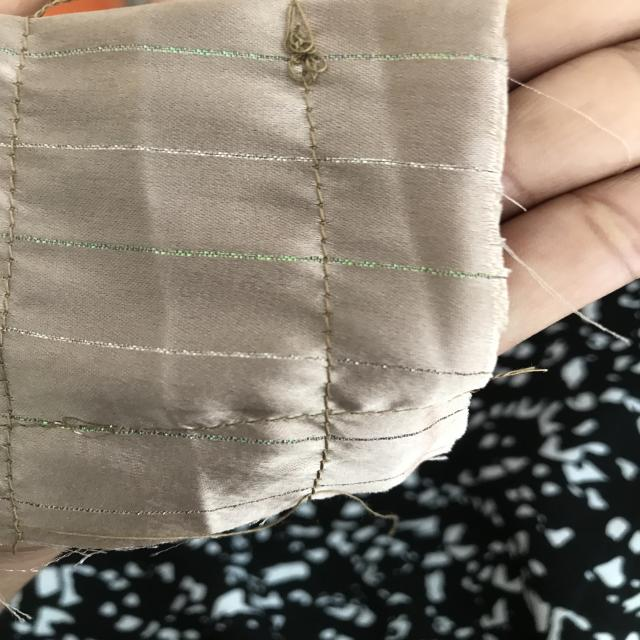good: (299, 279, 362, 350), (303, 176, 342, 252), (288, 102, 332, 147)
